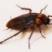cockroach: (6, 12, 50, 32)
